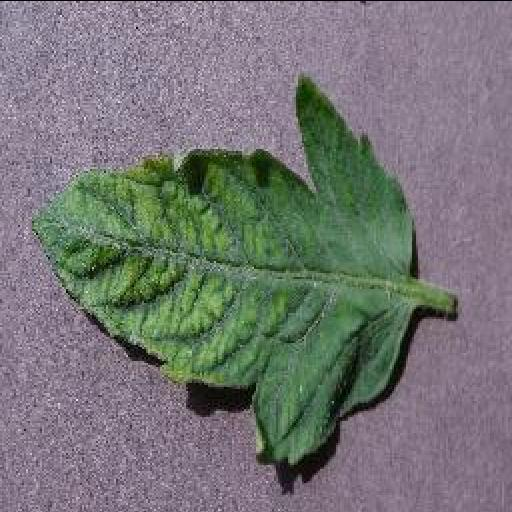Mosaic Virus: (26, 70, 416, 468)
